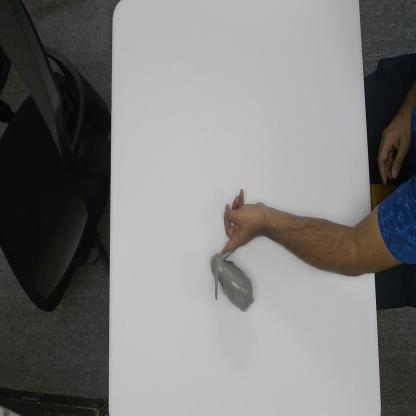Arm: (263, 202, 372, 279)
Elephant: (209, 248, 255, 313)
Hand: (221, 187, 263, 257)
